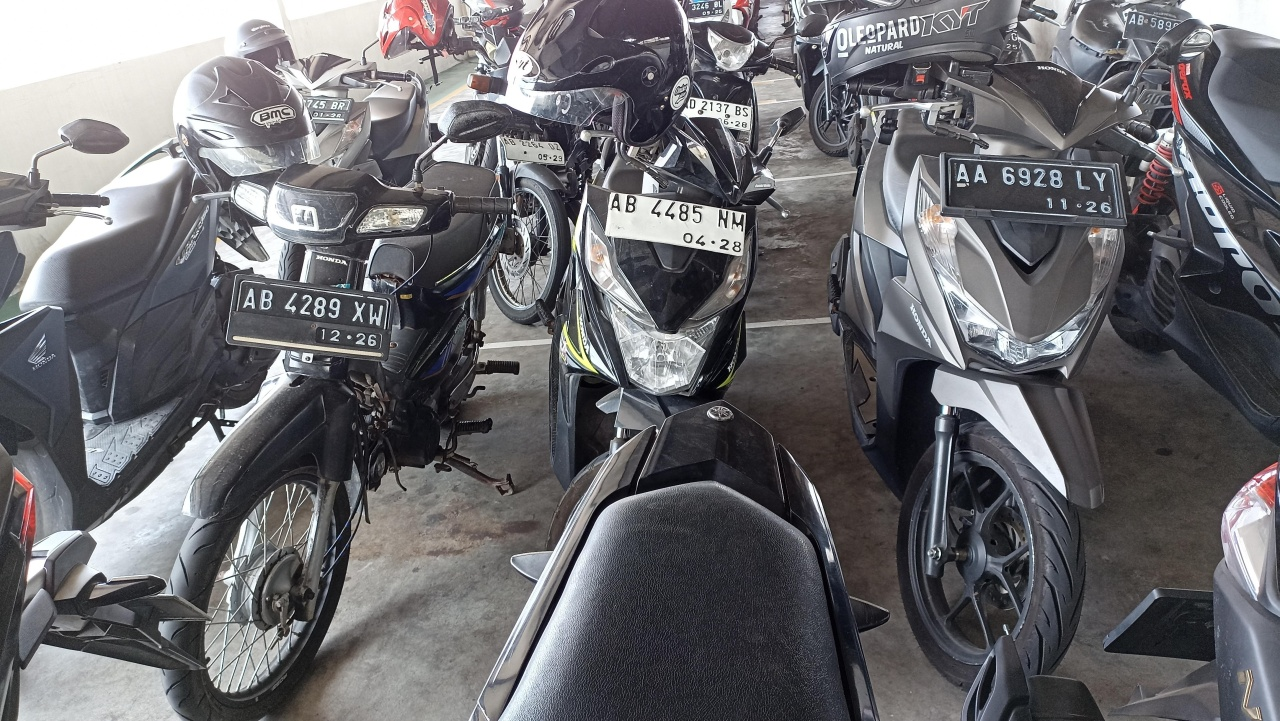plate: (229, 276, 393, 359), (943, 153, 1125, 223), (605, 192, 746, 257), (499, 136, 565, 166)
